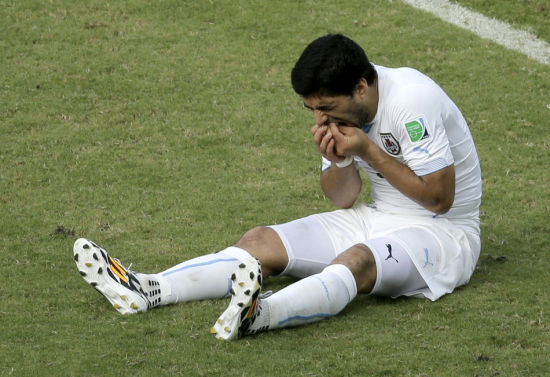face: (300, 86, 364, 125)
